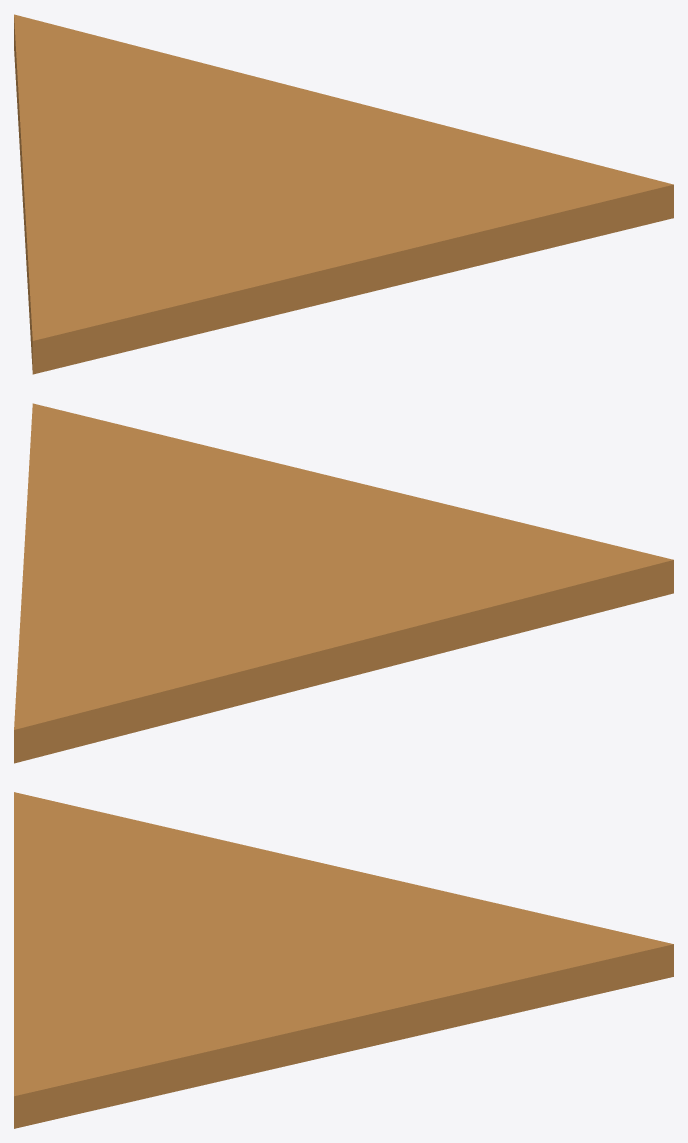
Rendered from triangle_rack.fbx.
3 renders of one model, top to bottom at view 1: azimuth 30°, elevation 25°; view 2: azimuth 150°, elevation 25°; view 3: azimuth 270°, elevation 25°, orthographic. The views are drawn at different scales.
Visible parts, largest first — view 1: triangle_rack; view 2: triangle_rack; view 3: triangle_rack.
Part boxes in pixels (x1,y1,x2,y2): triangle_rack: (14, 14, 673, 374); triangle_rack: (14, 403, 673, 763); triangle_rack: (14, 792, 673, 1128).
Bounding box in the file's own units: 0.6 × 0.03 × 0.55.
